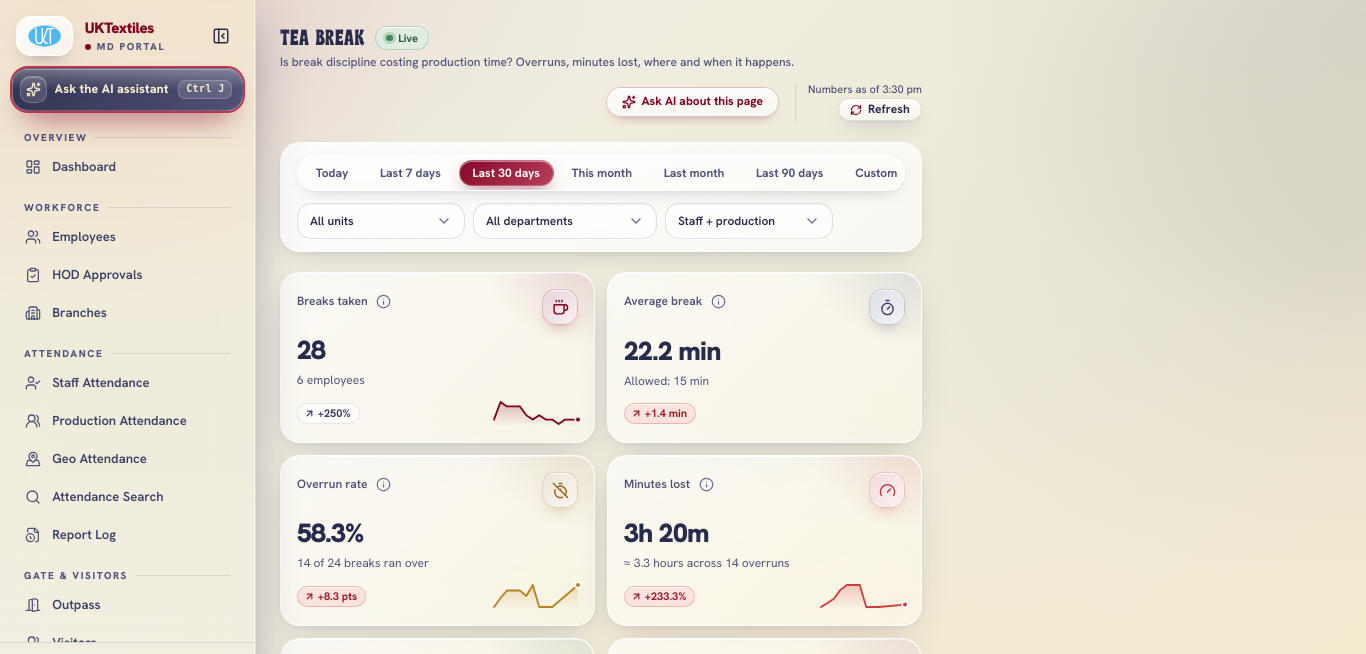
Test: Tea Break page › explains a figure on request
What coordinates should you click on to do the following:
click the button with test id "provenance-button" next to "Overrun rate"
I would click on:
 (383, 484)
Its box is [369, 470, 397, 498].
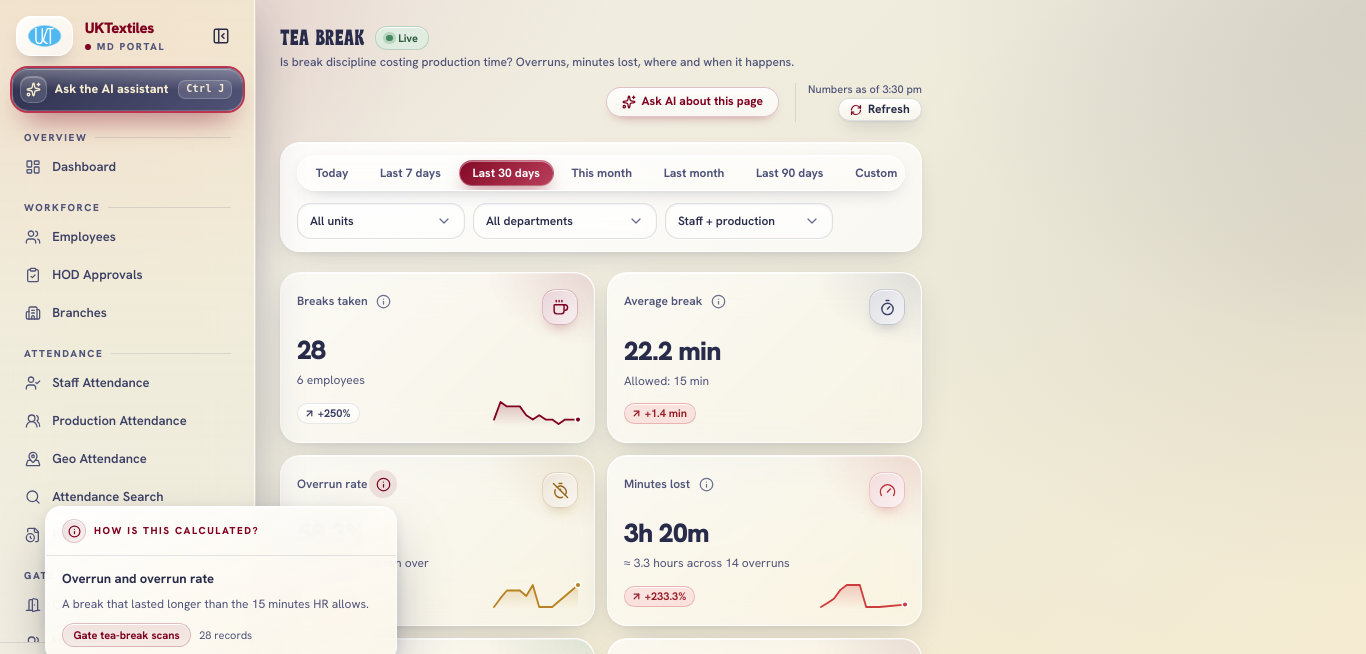
Now the text "Overrun and overrun rate" is shown, box [62, 570, 214, 587]
Now the text "A break that lasted longer than the 15 minutes HR allows." is shown, box [62, 595, 380, 615]
